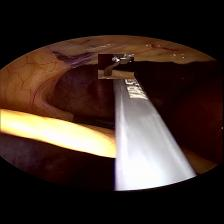Scissors: (98, 53, 134, 78)
